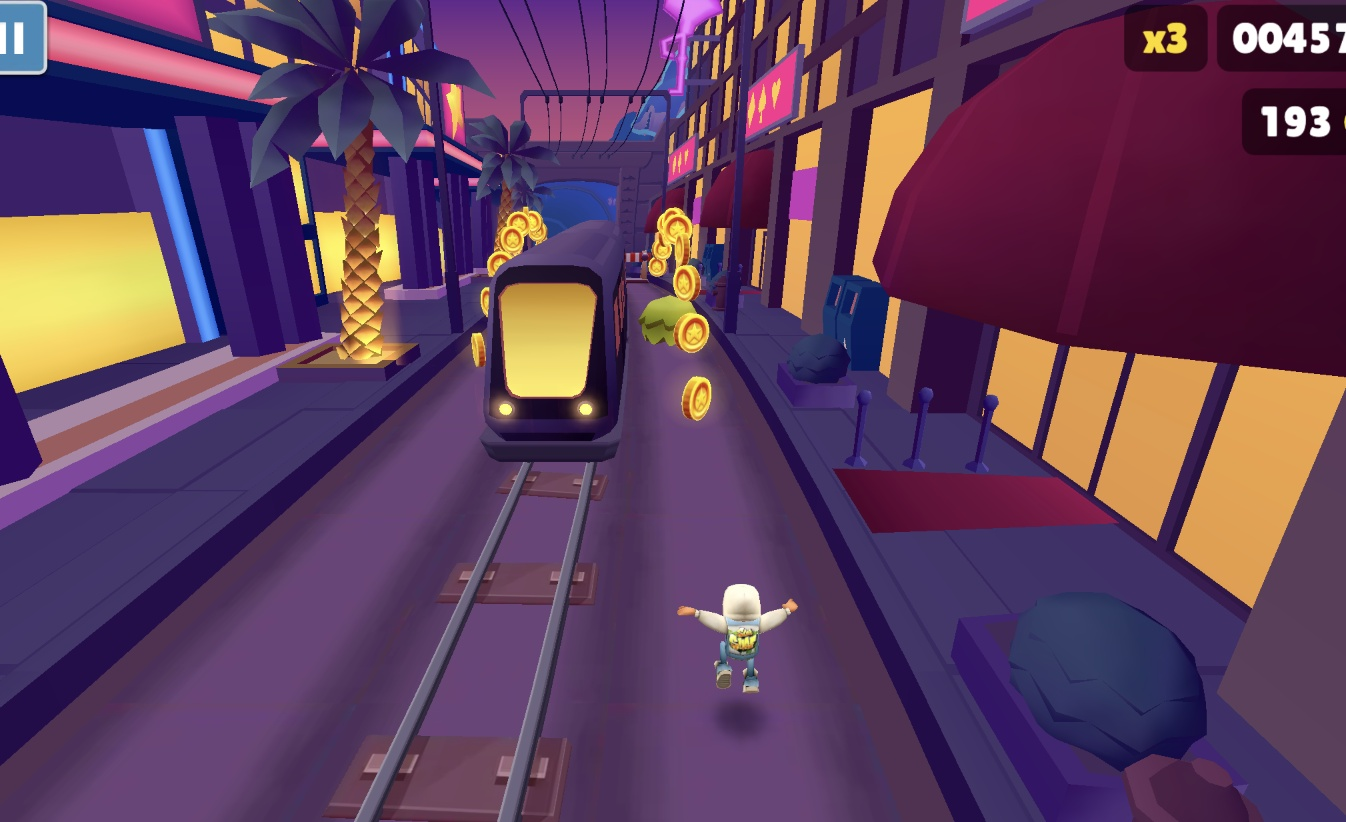bush: (638, 295, 697, 348)
ground_barrier: (625, 253, 646, 282)
train: (479, 220, 626, 462)
